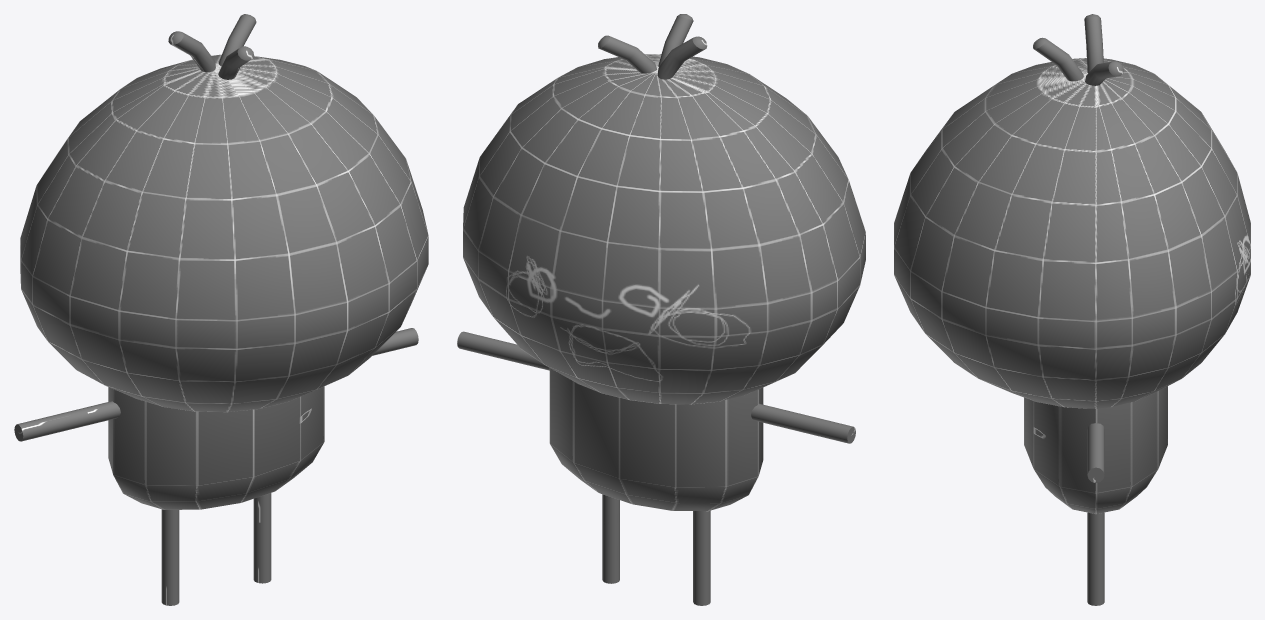
The model's file is dejman.dae.
3 renders of one model, left to right at view 1: azimuth 30°, elevation 25°; view 2: azimuth 150°, elevation 25°; view 3: azimuth 270°, elevation 25°, orthographic. The views are drawn at different scales.
Parts seen in each view (by area): view 1: head.1, bodyInverse, armlup.1, rdn, ldn, hairb, hairc, haira, lup, armrup.1, armlup; view 2: head.1, bodyInverse, armlup.1, ldn, armrup.1, rdn, hairc, hairb, haira, armlup, lup; view 3: head.1, bodyInverse, rdn, haira, hairb, armrup.1, hairc, rup.
Boxes of the visible parts, left/top/right/bottom form: head.1: left=20, top=54, right=428, bottom=412; bodyInverse: left=108, top=386, right=324, bottom=509; armlup.1: left=14, top=408, right=89, bottom=441; rdn: left=253, top=512, right=271, bottom=583; ldn: left=161, top=533, right=179, bottom=605; hairb: left=168, top=31, right=215, bottom=72; hairc: left=218, top=14, right=256, bottom=66; haira: left=218, top=46, right=254, bottom=79; lup: left=161, top=509, right=179, bottom=545; armrup.1: left=372, top=328, right=418, bottom=355; armlup: left=79, top=401, right=120, bottom=426; head.1: left=463, top=54, right=865, bottom=404; bodyInverse: left=549, top=368, right=763, bottom=511; armlup.1: left=782, top=411, right=855, bottom=443; ldn: left=693, top=534, right=710, bottom=605; armrup.1: left=457, top=331, right=523, bottom=364; rdn: left=602, top=513, right=619, bottom=583; hairc: left=598, top=35, right=656, bottom=73; hairb: left=657, top=36, right=707, bottom=79; haira: left=658, top=14, right=693, bottom=66; armlup: left=751, top=403, right=788, bottom=428; lup: left=693, top=510, right=710, bottom=545; head.1: left=894, top=58, right=1250, bottom=408; bodyInverse: left=1024, top=386, right=1167, bottom=513; rdn: left=1087, top=539, right=1104, bottom=605; haira: left=1033, top=37, right=1083, bottom=81; hairb: left=1084, top=14, right=1103, bottom=73; armrup.1: left=1087, top=436, right=1104, bottom=482; hairc: left=1085, top=61, right=1123, bottom=85; rup: left=1087, top=512, right=1104, bottom=546.
Bounding box in the file's own units: 139 × 191 × 113.
